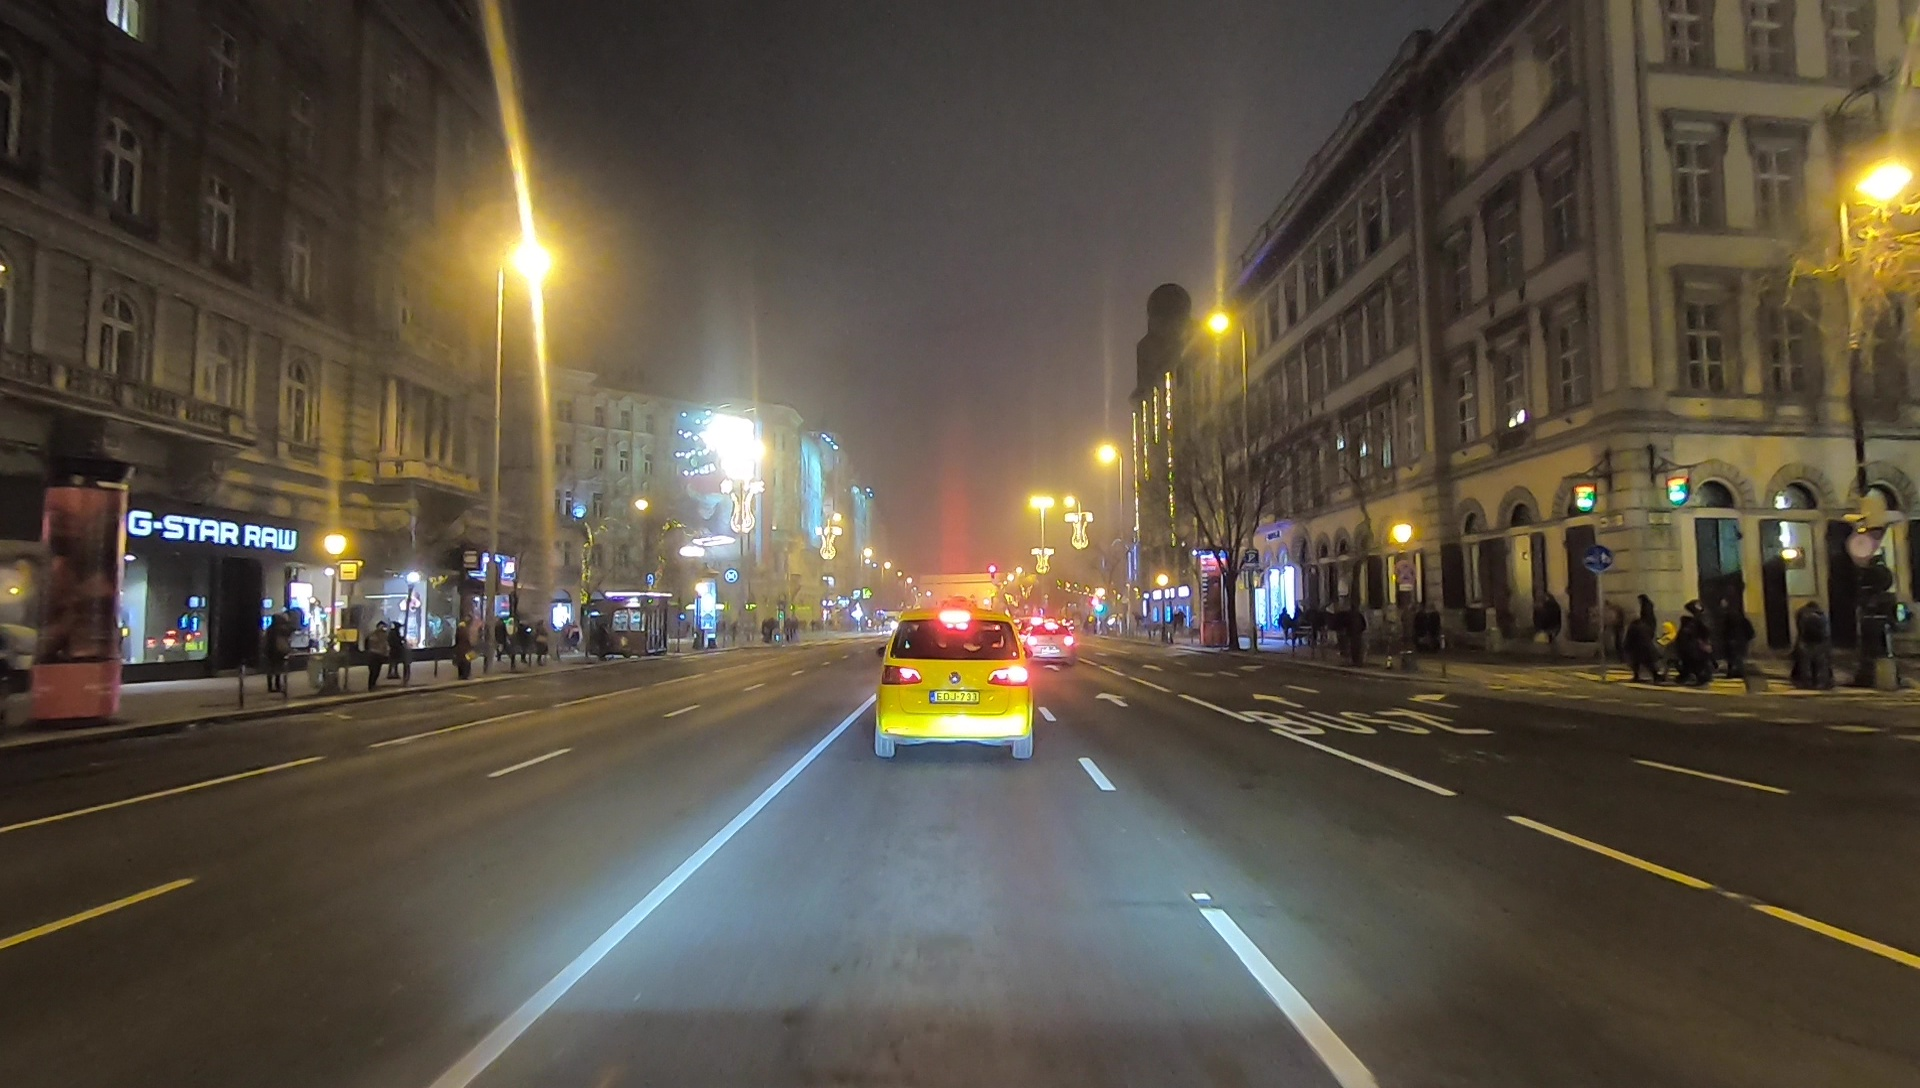person: (1675, 600, 1706, 684), (264, 611, 293, 697), (1710, 595, 1738, 678), (1632, 597, 1656, 687), (1538, 591, 1564, 663), (365, 615, 388, 682), (451, 615, 469, 671), (389, 621, 404, 676), (1280, 608, 1293, 639)
